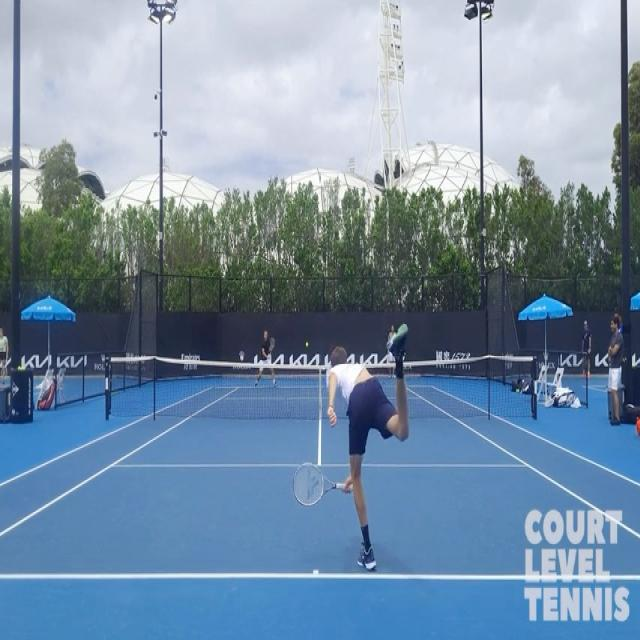serve_followthrough: (294, 301, 440, 577)
